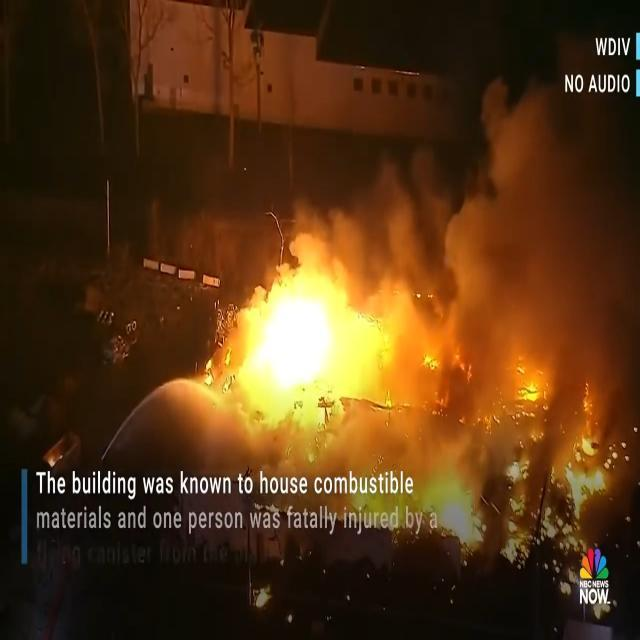fire: (312, 245, 444, 455), (222, 328, 424, 456), (252, 296, 372, 417), (574, 440, 610, 502), (443, 494, 480, 548), (522, 371, 540, 406), (504, 453, 524, 482)
